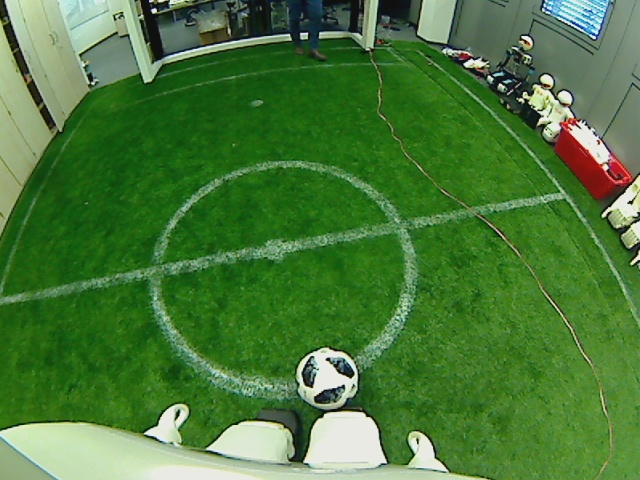ball: (292, 343, 359, 410)
